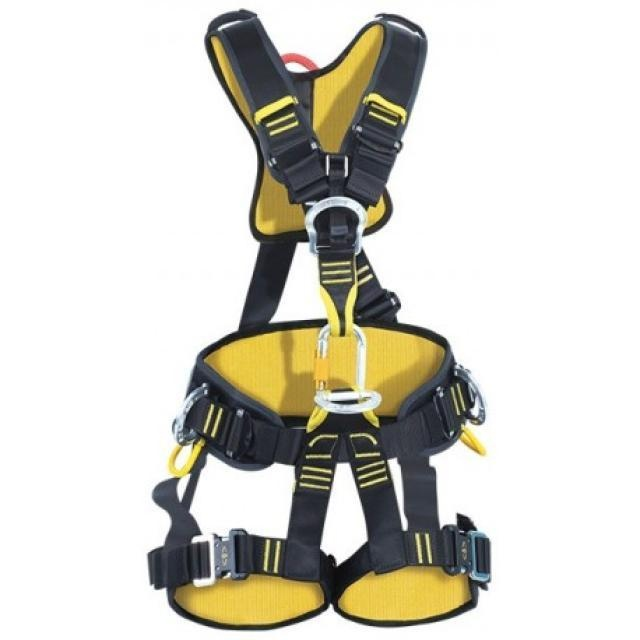Arnes_seguridad: (150, 6, 500, 640)
